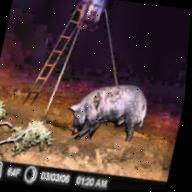boar: (61, 69, 170, 154)
